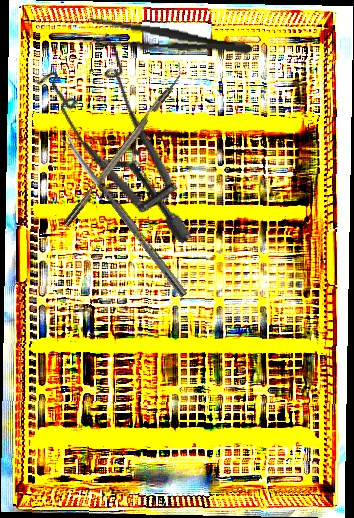Chopper: (55, 61, 191, 227)
Dressing Forceps: (73, 14, 255, 64)
Speculum: (3, 14, 260, 247)
Surgical Spoon: (59, 131, 189, 298)
